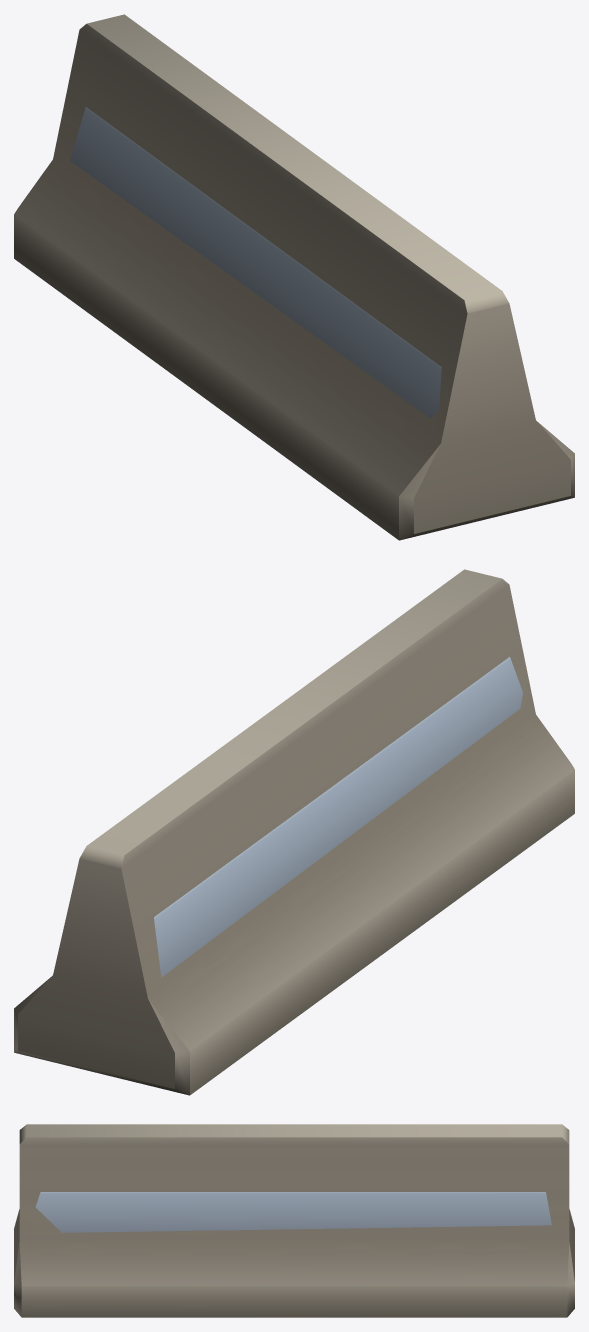
The model's file is Concrete_Barrier_1A.fbx.
The picture shows the model from 3 angles, top to bottom: view 1: azimuth 30°, elevation 25°; view 2: azimuth 150°, elevation 25°; view 3: azimuth 270°, elevation 25°; orthographic projection. The views are drawn at different scales.
Parts seen in each view (by area): view 1: Concrete_Barrier_1A; view 2: Concrete_Barrier_1A; view 3: Concrete_Barrier_1A.
Boxes of the visible parts, bbox=[...] form: Concrete_Barrier_1A: bbox=[14, 14, 574, 540]; Concrete_Barrier_1A: bbox=[14, 569, 574, 1095]; Concrete_Barrier_1A: bbox=[14, 1124, 574, 1317].
Size of the model in its own units: 30.48 by 36.58 by 119.
